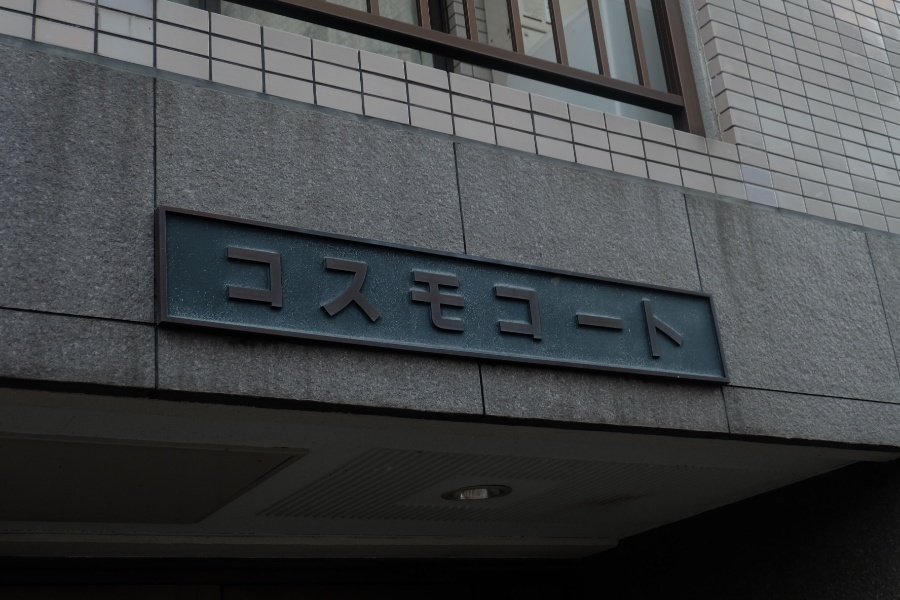text: (241, 246, 256, 365), (257, 246, 272, 365), (273, 246, 288, 365), (289, 246, 304, 365), (305, 246, 320, 365), (321, 246, 336, 365), (337, 246, 352, 365), (353, 246, 368, 365), (369, 246, 384, 365), (385, 246, 400, 365), (401, 246, 416, 365), (417, 246, 432, 365), (433, 246, 448, 365), (449, 246, 464, 365), (465, 246, 480, 365), (481, 246, 496, 365), (497, 246, 512, 365), (513, 246, 528, 365), (529, 246, 544, 365), (545, 246, 560, 365), (561, 246, 576, 365), (577, 246, 592, 365), (593, 246, 608, 365), (609, 246, 624, 365), (625, 246, 640, 365), (641, 246, 656, 365), (657, 246, 672, 365), (673, 246, 688, 365), (226, 246, 240, 365), (689, 246, 691, 365)
